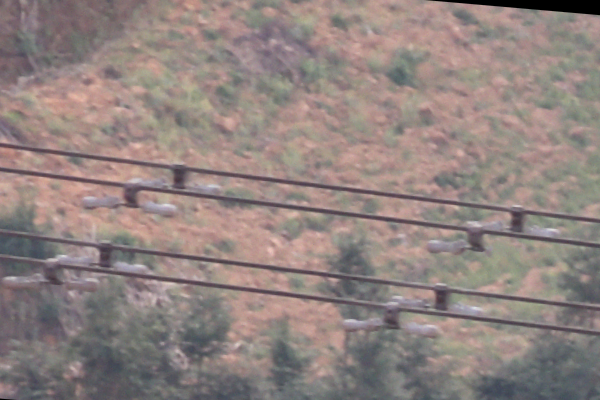damper: (339, 300, 445, 339), (52, 237, 152, 275), (392, 279, 487, 319), (79, 179, 177, 216), (127, 160, 224, 196), (464, 203, 560, 239), (3, 257, 100, 292)
damper_defect: (422, 224, 494, 258)
